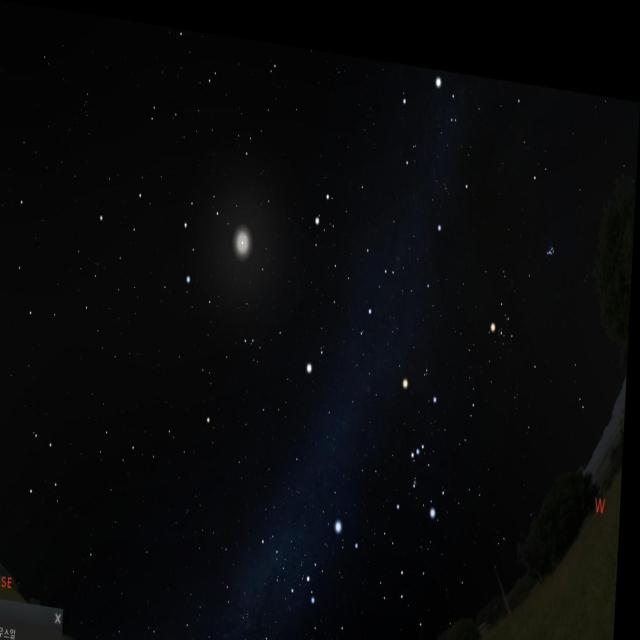canis_major: (306, 495, 370, 605)
canis_minor: (304, 323, 331, 376)
gemini: (306, 168, 404, 344)
leo: (90, 151, 227, 303)
moon: (229, 195, 260, 262)
orion: (393, 353, 452, 519)
pleiades: (546, 219, 560, 250)
taurus: (490, 182, 566, 356)
